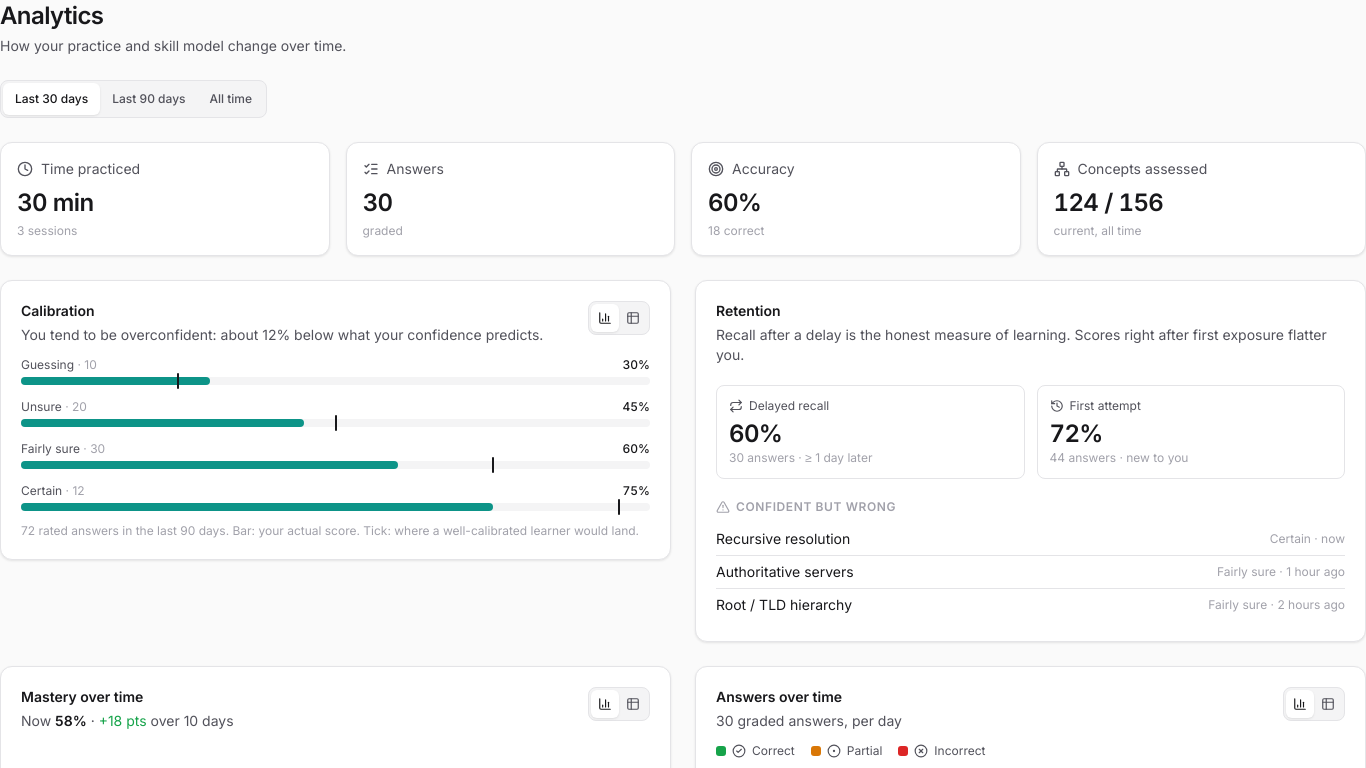
Test: AnalyticsPage › switches date range and table view
Click the radio button labelled "All time": (231, 99) [198,83,264,115]
(page scrolled)
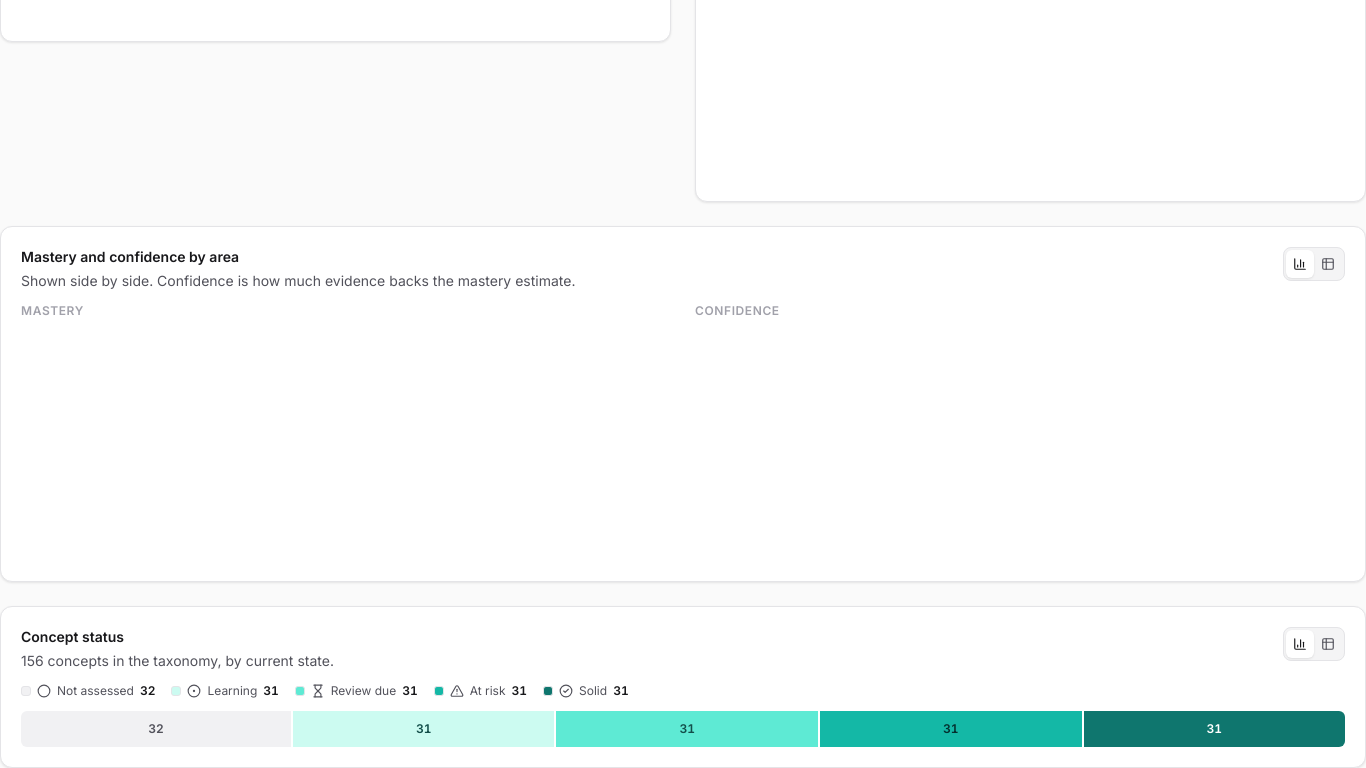
Click the tab titled "Table view" in the row of "Concept status": (1328, 644) [1314,630,1342,658]
(page scrolled)
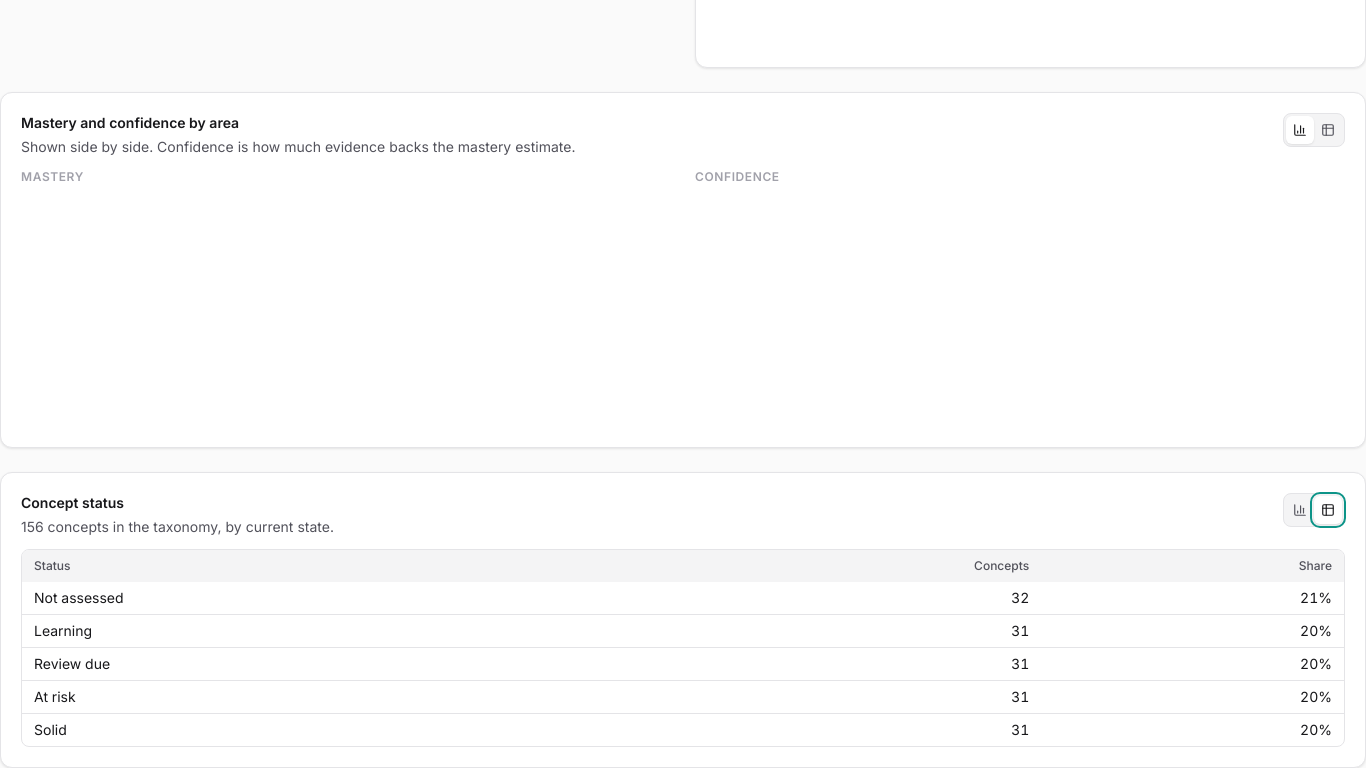
Expected: the table is shown, [22,550,1344,746]
